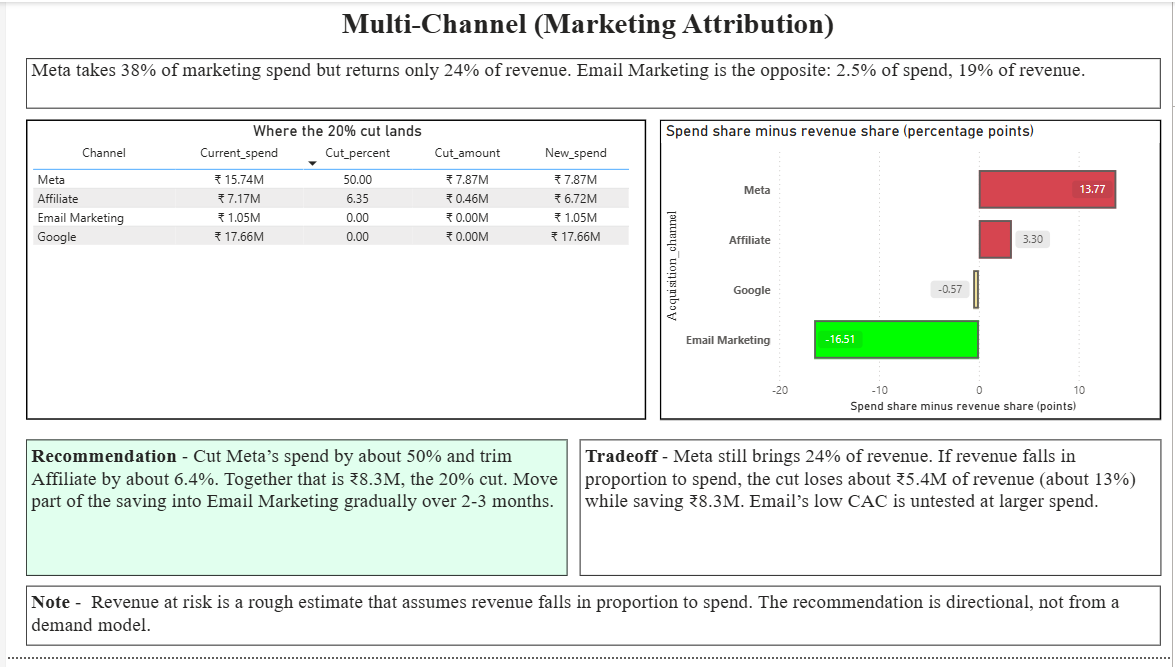

The dashboard page shown, as its layout file describes it:
{"tool":"powerbi","page":{"name":"Page 3","canvas":[1280,720],"ordinal":2},"visuals":[{"type":"textbox","box":[9.6,0,1258.3,50.8],"z":1000},{"type":"clusteredBarChart","title":"Spend share minus revenue share (percentage points)","fields":{"Category":["budget_allocation.Acquisition_channel"],"Y":["Sum(budget_allocation.Gap)"]},"box":[717.7,129,550.3,329.3],"z":2000},{"type":"tableEx","title":"Where the 20% cut lands","fields":{"Values":["cut_plan.Channel","cut_plan.Current_spend","cut_plan.Cut_percent","cut_plan.Cut_amount","cut_plan.New_spend"]},"box":[22,129,680.6,329.3],"z":3000},{"type":"textbox","box":[22,480.3,594.2,149.6],"z":4000},{"type":"textbox","box":[629.8,480.3,638.1,149.6],"z":5000},{"type":"textbox","box":[22,640.8,1246,65.9],"z":6000},{"type":"textbox","title":"Meta takes 38% of marketing spend but returns only 24% of revenue. Email Marketing is the opposite: 2.5% of spend, 19% of revenue.","box":[22,61.7,1246,54.9],"z":7000}]}

Visuals, with their boxes in screenshot pixels (x1, y1, x2, y2), scaled from the page's 1280x720 canvas onto the 1175x667 screenshot:
textbox: x1=9 y1=0 x2=1164 y2=47
"Spend share minus revenue share (percentage points)" clusteredBarChart: x1=659 y1=120 x2=1164 y2=425
"Where the 20% cut lands" tableEx: x1=20 y1=120 x2=645 y2=425
textbox: x1=20 y1=445 x2=566 y2=584
textbox: x1=578 y1=445 x2=1164 y2=584
textbox: x1=20 y1=594 x2=1164 y2=655
"Meta takes 38% of marketing spend but returns only 24% of revenue. Email Marketing is the opposite: 2.5% of spend, 19% of revenue." textbox: x1=20 y1=57 x2=1164 y2=108
